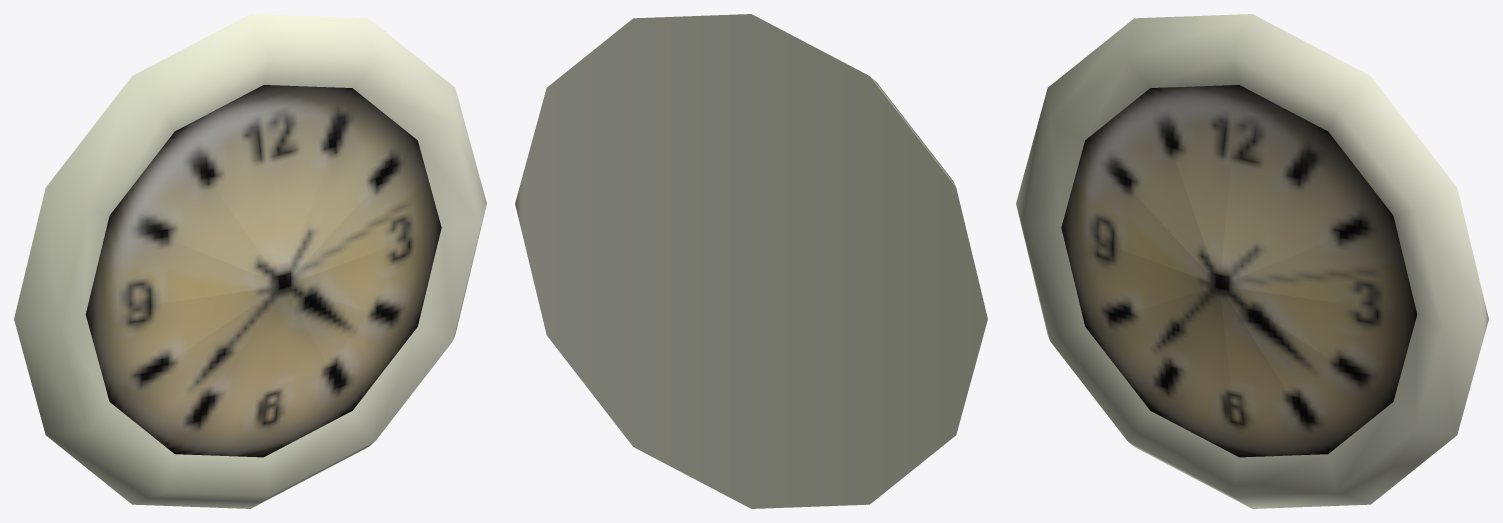
File: Wall_Clock_A.FBX
3 views of the same model, side by side, from view 1: azimuth 30°, elevation 25°; view 2: azimuth 150°, elevation 25°; view 3: azimuth 330°, elevation 25° (orthographic).
Visible parts, largest first — view 1: Wall_Clock; view 2: Wall_Clock; view 3: Wall_Clock.
Boxes of the visible parts, x1=… form: Wall_Clock: x1=14, y1=14, x2=486, y2=508; Wall_Clock: x1=515, y1=14, x2=987, y2=508; Wall_Clock: x1=1016, y1=14, x2=1488, y2=508.
Size of the model in its own units: 118 by 118 by 14.32.
